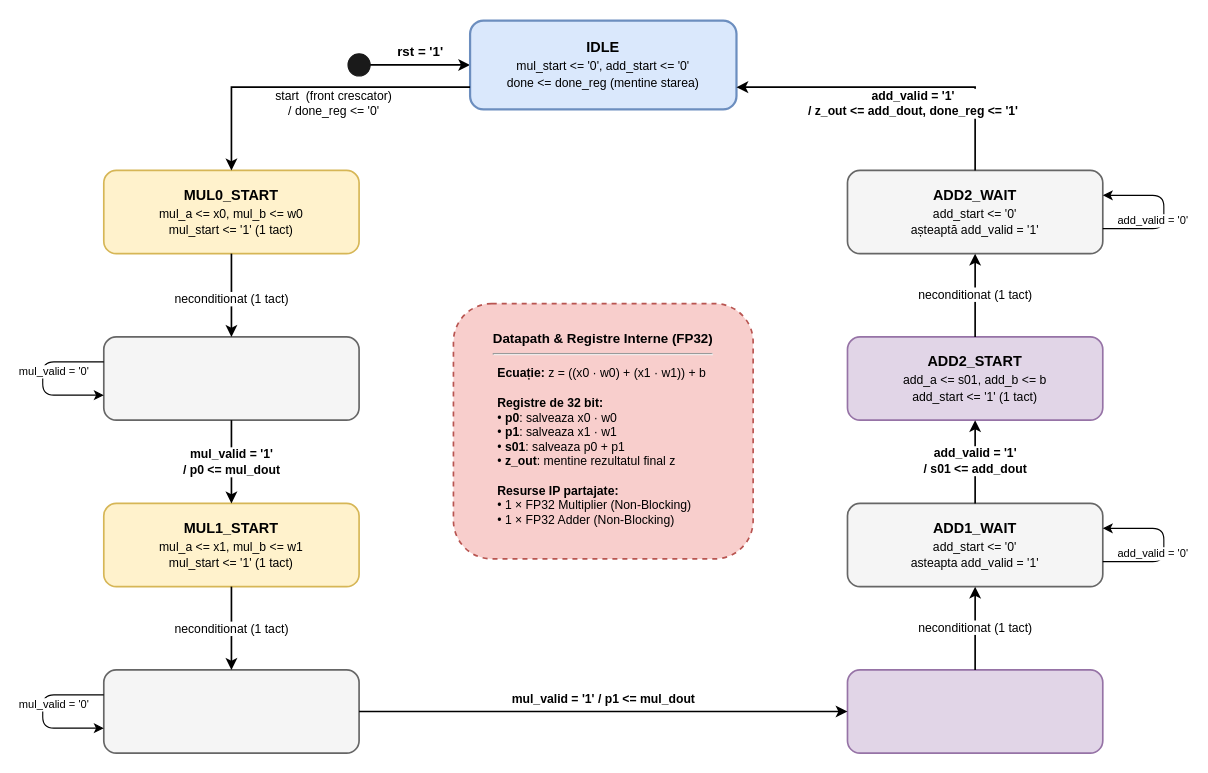
Some shapes in this 1208 by 773 pixel diagram are drawn without their labels. The shapes that lost their labels are listed below. From the top down, each one's box as (x1, y1, x2, y2) in pixels, then its label:
(102, 336, 359, 420): MUL0_WAIT mul_start <= '0' asteapta mul_valid = '1'
(102, 669, 359, 753): MUL1_WAIT mul_start <= '0' asteapta mul_valid = '1'
(846, 669, 1103, 753): ADD1_START add_a <= p0, add_b <= p1 add_start <= '1' (1 tact)
